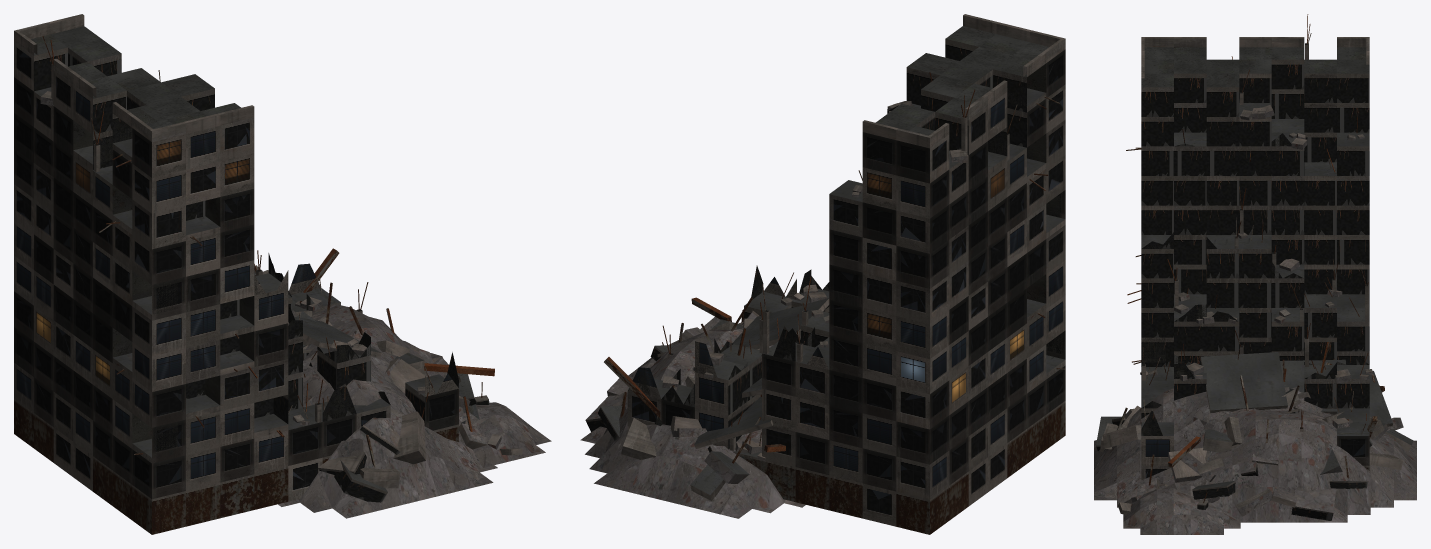
Rendered from Building_Collapsed.fbx.
The picture shows the model from 3 angles, left to right: view 1: azimuth 30°, elevation 25°; view 2: azimuth 150°, elevation 25°; view 3: azimuth 270°, elevation 25°; orthographic projection. The views are drawn at different scales.
Parts seen in each view (by area): view 1: Building_Collapsed; view 2: Building_Collapsed; view 3: Building_Collapsed.
Part boxes in pixels (x1=…): Building_Collapsed: x1=14, y1=14, x2=551, y2=534; Building_Collapsed: x1=580, y1=14, x2=1065, y2=534; Building_Collapsed: x1=1094, y1=14, x2=1416, y2=534.
Size of the model in its own units: 135 by 141 by 110.
1 material, 1 textured.
